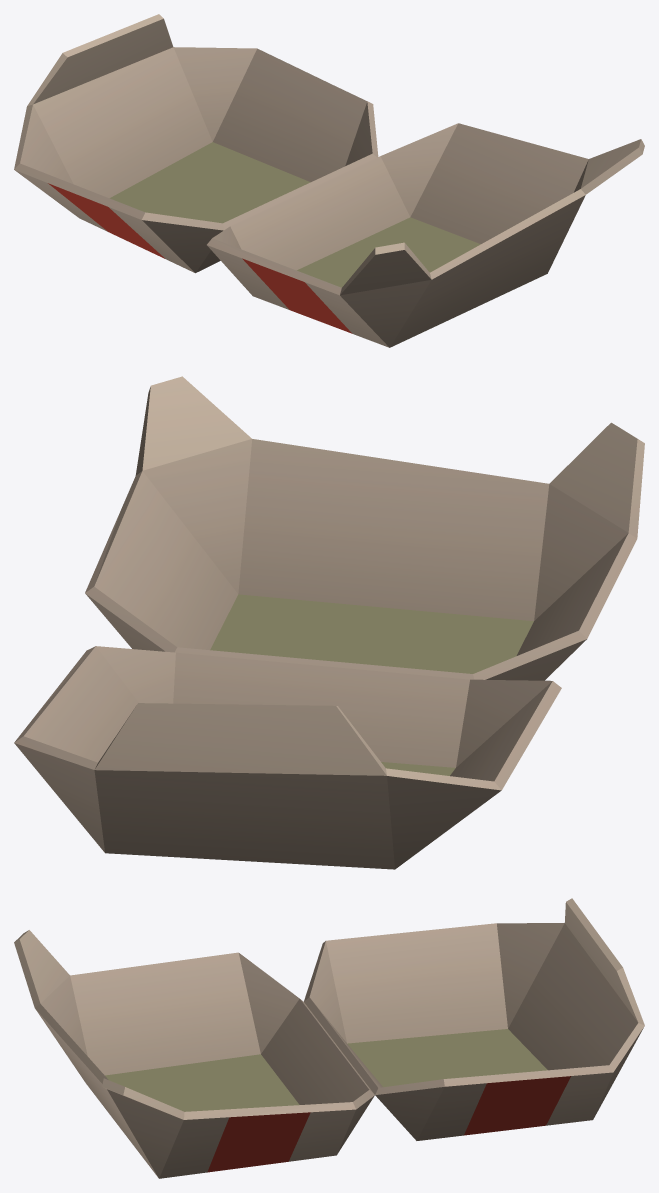
File: Trash_005.glb
3 renders of one model, top to bottom at view 1: azimuth 30°, elevation 25°; view 2: azimuth 150°, elevation 25°; view 3: azimuth 270°, elevation 25°, orthographic. The views are drawn at different scales.
Parts seen in each view (by area): view 1: Trash_005; view 2: Trash_005; view 3: Trash_005.
Boxes of the visible parts, left/top/right/bottom form: Trash_005: left=14, top=14, right=644, bottom=347; Trash_005: left=14, top=376, right=644, bottom=869; Trash_005: left=14, top=898, right=644, bottom=1178.
Size of the model in its own units: 0.2301 by 0.0697 by 0.2782.
Materials: 1 (1 with a texture image).
